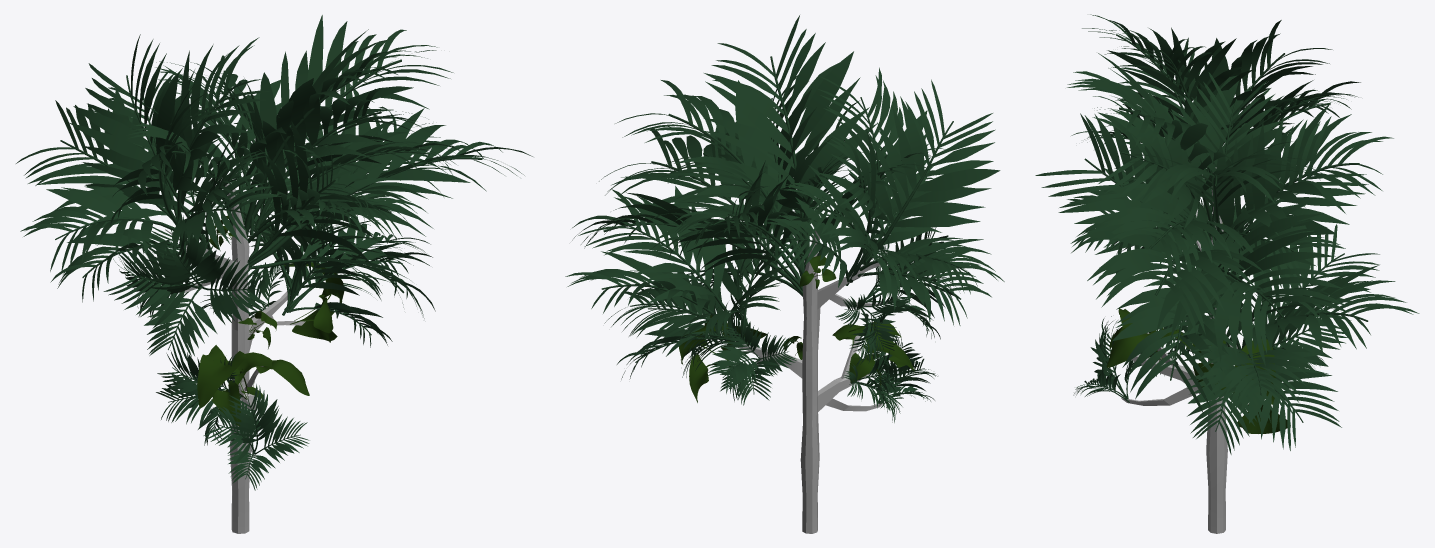
File: wood.fbx
3 renders of one model, left to right at view 1: azimuth 30°, elevation 25°; view 2: azimuth 150°, elevation 25°; view 3: azimuth 270°, elevation 25°, orthographic. The views are drawn at different scales.
Parts seen in each view (by area): view 1: Farm:Palm_018, Farm:Palm_017, Palm_018, Farm:Palm_019, Palm_020, Farm:Palm_013, pCylinder1, Palm_017, Farm:Palm_014, Farm:Palm_012, Palm_019, daizu:polySurface4 (+4 smaller); view 2: Farm:Palm_018, Farm:Palm_019, Farm:Palm_012, Farm:Palm_017, Palm_018, pCylinder1, Farm:Palm_013, Farm:Palm_014, Palm_012, Palm_021, Palm_019, Palm_020 (+5 smaller); view 3: Palm_018, Farm:Palm_013, Farm:Palm_018, Farm:Palm_012, Farm:Palm_014, Farm:Palm_019, Farm:Palm_017, pCylinder1, Palm_017, daizu:polySurface19, daizu:polySurface4.
Part boxes in pixels (<box>): Farm:Palm_018: <box>128,15,453,243</box>; Farm:Palm_017: <box>16,34,267,302</box>; Palm_018: <box>190,62,532,318</box>; Farm:Palm_019: <box>20,37,281,272</box>; Palm_020: <box>103,214,270,369</box>; Farm:Palm_013: <box>176,83,460,236</box>; pCylinder1: <box>165,178,305,533</box>; Palm_017: <box>203,384,309,490</box>; Farm:Palm_014: <box>248,214,432,347</box>; Farm:Palm_012: <box>177,120,440,300</box>; Palm_019: <box>156,350,242,445</box>; daizu:polySurface4: <box>197,345,309,408</box>; Farm:Palm_018: <box>615,15,944,278</box>; Farm:Palm_019: <box>780,67,1004,294</box>; Farm:Palm_012: <box>565,186,796,341</box>; Farm:Palm_017: <box>764,126,991,325</box>; Palm_018: <box>572,100,859,315</box>; pCylinder1: <box>727,230,891,533</box>; Farm:Palm_013: <box>651,75,867,258</box>; Farm:Palm_014: <box>617,237,759,379</box>; Palm_012: <box>707,314,796,405</box>; Palm_021: <box>835,283,915,367</box>; Palm_019: <box>843,332,903,422</box>; Palm_020: <box>863,227,960,339</box>; Palm_018: <box>1035,113,1368,413</box>; Farm:Palm_013: <box>1067,72,1345,291</box>; Farm:Palm_018: <box>1067,37,1393,273</box>; Farm:Palm_012: <box>1140,224,1419,414</box>; Farm:Palm_014: <box>1161,266,1347,454</box>; Farm:Palm_019: <box>1071,14,1346,192</box>; Farm:Palm_017: <box>1093,20,1360,224</box>; pCylinder1: <box>1121,167,1237,533</box>; Palm_017: <box>1073,316,1141,402</box>; daizu:polySurface19: <box>1193,339,1290,433</box>; daizu:polySurface4: <box>1106,304,1177,367</box>.
Size of the model in its own units: 8.21 by 8.71 by 6.12.
